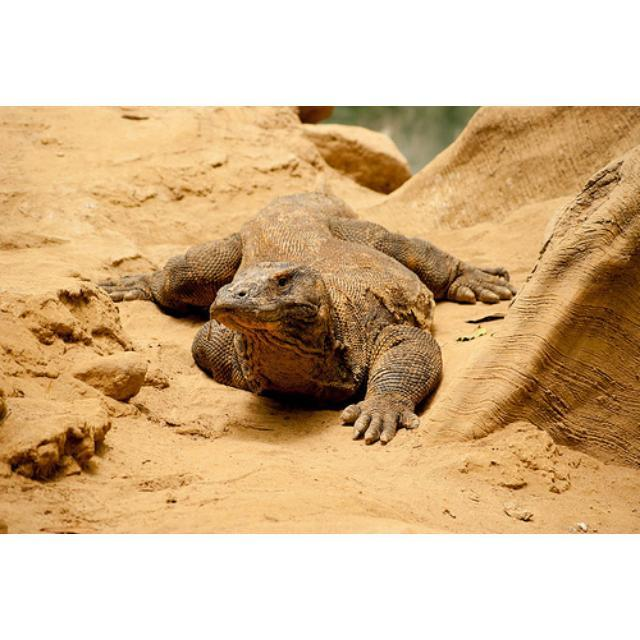KomodoDragon: (102, 191, 523, 448)
